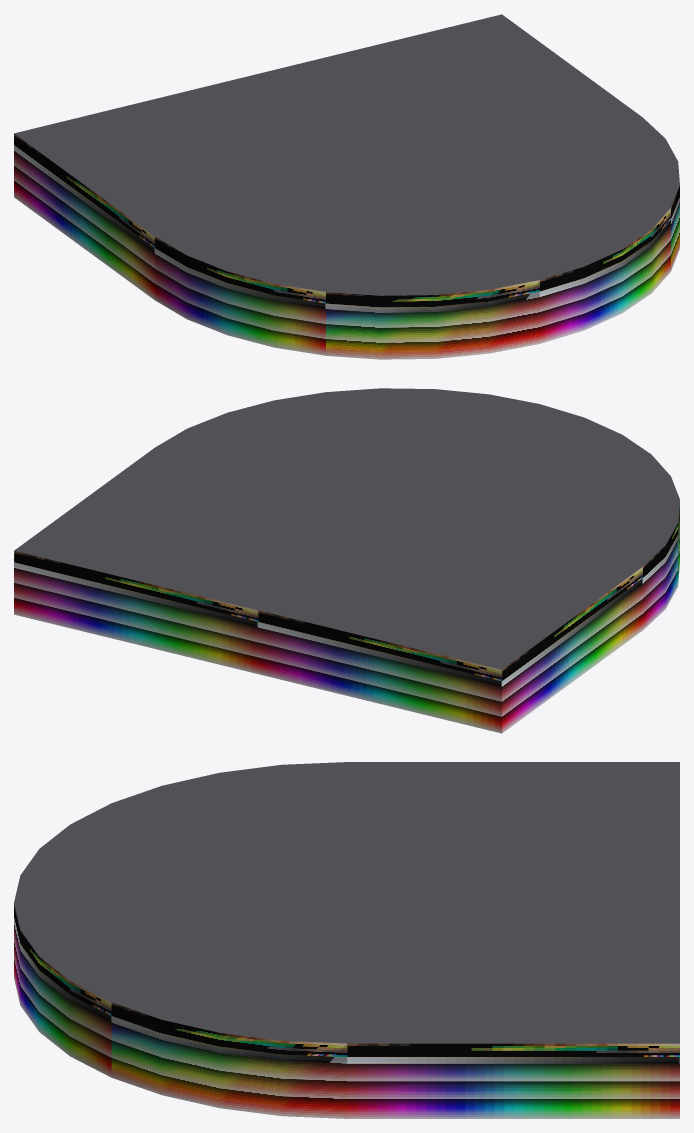
The model's file is GrassRound.fbx.
3 renders of one model, top to bottom at view 1: azimuth 30°, elevation 25°; view 2: azimuth 150°, elevation 25°; view 3: azimuth 270°, elevation 25°, orthographic. The views are drawn at different scales.
Visible parts, largest first — view 1: GrassRound; view 2: GrassRound; view 3: GrassRound.
Part boxes in pixels (x1,y1,x2,y2): GrassRound: (14,14,679,359); GrassRound: (14,388,679,733); GrassRound: (14,762,679,1118).
Bounding box in the file's own units: 400 × 50 × 400.
